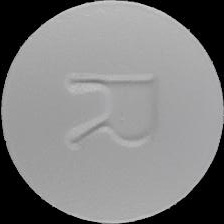68084-533: (0, 0, 224, 224)
